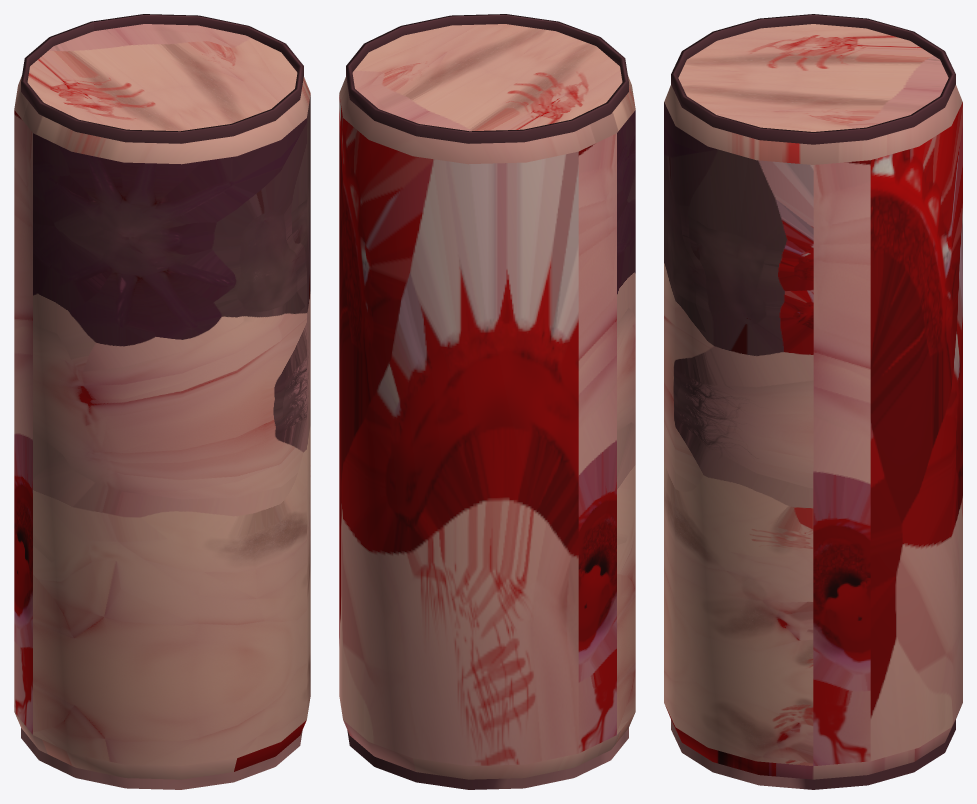
3 renders of one model, left to right at view 1: azimuth 30°, elevation 25°; view 2: azimuth 150°, elevation 25°; view 3: azimuth 270°, elevation 25°, orthographic.
Parts seen in each view (by area): view 1: Cylinder; view 2: Cylinder; view 3: Cylinder.
Part boxes in pixels (x1,y1,x2,y2): Cylinder: (14, 14, 310, 789); Cylinder: (339, 14, 635, 789); Cylinder: (664, 14, 962, 789).
Bounding box in the file's own units: 2 × 4.84 × 2.
